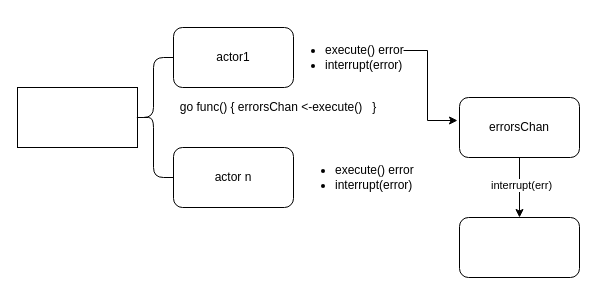
Some shapes in this 597 by 295 pixel diagram are drawn without their labels. The shapes that lost their labels are listed below. From the top down, each one's centre as x and y in pixels, then its label:
point 77,117: run.Group
point 519,247: interrupt all actors
